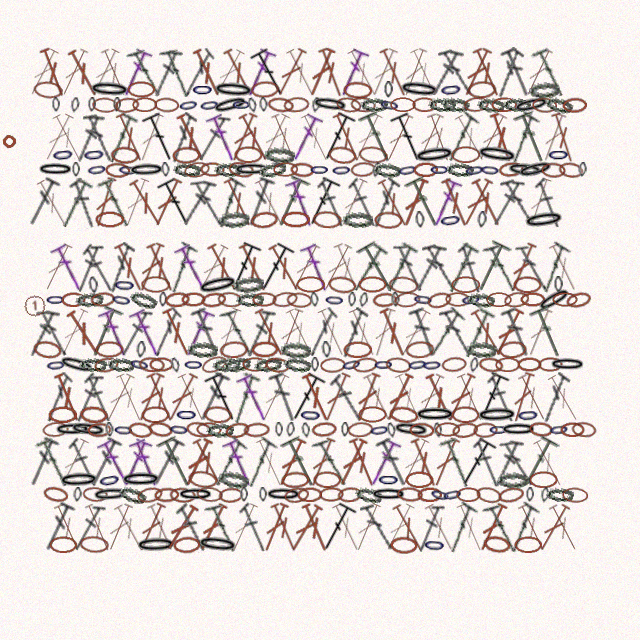chain: (535, 284, 574, 315), (196, 272, 240, 298), (475, 143, 519, 166), (522, 209, 566, 231), (413, 144, 456, 166), (211, 93, 250, 117), (57, 353, 96, 377), (398, 79, 441, 100), (196, 534, 239, 555), (516, 158, 555, 181), (212, 80, 255, 100), (512, 94, 551, 116), (88, 80, 131, 99), (476, 406, 518, 424), (58, 471, 100, 489), (135, 536, 177, 554), (311, 95, 349, 114), (69, 420, 107, 439), (392, 420, 430, 439), (414, 406, 456, 423), (120, 471, 162, 488), (232, 274, 265, 295), (217, 469, 250, 490), (506, 161, 544, 179), (128, 289, 159, 311), (117, 484, 148, 506), (200, 353, 229, 376), (257, 159, 288, 180), (32, 339, 63, 360), (187, 469, 218, 490), (528, 80, 560, 100), (222, 354, 252, 375), (482, 534, 512, 555), (92, 486, 129, 503), (388, 275, 419, 295), (388, 405, 419, 425), (218, 210, 250, 229), (33, 80, 63, 100), (544, 95, 574, 115), (327, 145, 357, 165), (358, 145, 388, 165), (327, 275, 357, 295), (354, 485, 384, 505), (128, 162, 165, 178), (250, 210, 279, 230), (250, 80, 280, 99), (467, 80, 497, 99), (312, 210, 342, 229), (219, 340, 249, 359), (405, 340, 435, 359), (253, 355, 283, 374), (203, 405, 233, 424), (79, 535, 109, 554), (136, 485, 164, 505), (475, 485, 503, 505), (497, 485, 525, 505), (264, 146, 295, 164), (280, 341, 311, 359), (497, 471, 528, 489), (37, 162, 74, 177), (233, 162, 270, 177), (549, 357, 586, 372), (54, 422, 91, 437), (500, 422, 537, 437), (177, 487, 214, 502), (265, 487, 302, 502), (370, 487, 407, 502), (498, 340, 527, 359), (79, 405, 108, 424), (110, 146, 140, 164), (426, 290, 453, 310), (565, 290, 592, 310), (224, 420, 251, 440), (183, 160, 211, 179), (227, 160, 255, 179), (271, 290, 299, 309), (185, 420, 213, 439), (342, 211, 373, 228), (187, 341, 218, 358), (466, 341, 497, 358), (343, 81, 372, 99), (172, 146, 201, 164), (374, 211, 403, 229), (281, 471, 310, 489), (503, 290, 530, 309), (147, 420, 174, 439), (42, 485, 69, 504), (451, 421, 479, 439), (173, 536, 201, 554), (390, 536, 418, 554), (438, 210, 463, 230), (97, 470, 122, 490), (441, 96, 470, 113), (234, 146, 263, 163), (451, 146, 480, 163), (95, 211, 124, 228), (281, 211, 310, 228), (141, 276, 170, 293), (296, 276, 325, 293), (358, 276, 387, 293), (451, 276, 480, 293), (513, 276, 542, 293), (75, 291, 104, 308), (95, 341, 124, 358), (343, 341, 372, 358), (212, 356, 241, 373), (283, 356, 312, 373), (48, 406, 77, 423), (141, 406, 170, 423), (358, 406, 387, 423), (451, 406, 480, 423), (405, 471, 434, 488), (529, 471, 558, 488), (267, 96, 294, 114), (335, 96, 362, 114), (200, 291, 227, 309), (93, 356, 120, 374), (264, 356, 291, 374), (352, 356, 379, 374), (385, 356, 412, 374), (127, 421, 154, 439), (283, 486, 310, 504), (428, 485, 452, 505), (127, 81, 155, 98), (251, 341, 279, 358), (313, 471, 341, 488), (49, 536, 77, 553), (514, 536, 542, 553), (114, 96, 140, 114), (558, 161, 584, 179), (478, 356, 504, 374), (283, 96, 310, 113), (394, 291, 421, 308), (138, 356, 165, 373), (42, 421, 69, 438), (347, 421, 374, 438), (196, 486, 223, 503), (396, 486, 423, 503), (439, 80, 463, 99), (51, 145, 75, 164), (82, 145, 106, 164), (477, 97, 505, 113), (373, 162, 401, 178), (467, 292, 495, 308), (206, 422, 234, 438), (350, 96, 376, 113), (463, 96, 489, 113), (350, 161, 376, 178), (498, 161, 524, 178), (90, 291, 116, 308), (164, 291, 190, 308), (217, 291, 243, 308), (441, 356, 467, 373), (311, 421, 337, 438), (528, 421, 554, 438), (571, 421, 597, 438), (82, 486, 108, 503), (337, 486, 363, 503), (128, 355, 151, 374), (340, 355, 363, 374), (441, 485, 464, 504), (286, 292, 313, 308), (516, 406, 540, 424), (243, 422, 270, 438), (169, 487, 196, 503), (360, 97, 388, 112), (428, 97, 456, 112), (503, 97, 531, 112), (173, 162, 201, 177), (214, 162, 242, 177), (446, 162, 474, 177), (236, 292, 264, 307), (79, 357, 107, 372), (107, 357, 135, 372), (546, 487, 574, 502), (92, 97, 118, 113), (372, 292, 398, 308), (320, 357, 346, 373), (218, 487, 244, 503), (562, 487, 588, 503), (177, 96, 200, 114), (198, 96, 221, 114), (378, 96, 401, 114), (396, 161, 419, 179), (463, 161, 486, 179), (113, 276, 136, 294), (110, 291, 133, 309), (299, 406, 322, 424), (368, 421, 391, 439), (423, 536, 446, 554), (154, 97, 179, 113), (532, 97, 557, 113), (562, 97, 587, 113), (105, 162, 130, 178), (290, 162, 315, 178), (541, 162, 566, 178), (87, 422, 112, 438), (409, 422, 434, 438), (473, 422, 498, 438), (154, 487, 179, 503), (191, 81, 214, 98), (547, 146, 570, 163), (406, 356, 429, 373), (175, 406, 198, 423), (377, 471, 400, 488), (390, 97, 416, 112), (491, 97, 517, 112), (486, 292, 512, 307), (552, 292, 578, 307), (242, 357, 268, 372), (196, 422, 222, 437), (132, 97, 157, 112), (412, 97, 437, 112), (200, 162, 225, 177), (273, 162, 298, 177), (413, 162, 438, 177), (61, 292, 86, 307), (181, 292, 206, 307), (252, 292, 277, 307), (445, 292, 470, 307), (520, 292, 545, 307), (149, 357, 174, 372), (495, 357, 520, 372), (517, 357, 542, 372), (538, 357, 563, 372), (435, 422, 460, 437), (560, 422, 585, 437), (297, 487, 322, 502), (319, 487, 344, 502), (417, 487, 442, 502), (456, 487, 481, 502), (86, 161, 108, 178), (412, 291, 434, 308), (460, 291, 482, 308), (168, 421, 190, 438), (548, 421, 570, 438), (117, 162, 139, 178), (479, 162, 501, 178), (45, 357, 67, 373), (421, 357, 443, 373), (331, 162, 352, 178), (324, 292, 345, 308), (113, 422, 134, 438), (231, 97, 252, 112), (309, 162, 330, 177), (429, 162, 450, 177), (45, 292, 66, 307), (183, 357, 204, 372), (373, 357, 394, 372), (488, 422, 509, 437), (88, 276, 99, 294), (321, 341, 332, 358), (247, 97, 258, 113), (371, 162, 382, 178), (358, 292, 369, 308), (170, 357, 181, 373), (386, 422, 397, 438), (415, 211, 425, 228), (477, 211, 487, 228), (136, 341, 146, 358), (70, 97, 80, 113), (311, 97, 321, 113), (469, 357, 479, 373), (301, 422, 311, 438), (433, 422, 443, 438), (540, 487, 550, 503), (384, 81, 393, 98), (554, 276, 563, 293), (259, 97, 268, 112), (161, 162, 170, 177), (578, 162, 587, 177), (310, 292, 319, 307), (391, 292, 400, 307), (105, 422, 114, 437), (286, 422, 295, 437), (73, 487, 82, 502), (52, 97, 60, 112), (88, 97, 96, 112), (113, 97, 121, 112), (72, 162, 80, 177), (159, 292, 167, 307), (348, 292, 356, 307), (311, 357, 319, 372), (275, 422, 283, 437), (341, 422, 349, 437), (240, 487, 248, 502), (259, 487, 267, 502), (526, 487, 534, 502)
double: (356, 240, 400, 295), (517, 435, 560, 490), (455, 436, 498, 490), (404, 175, 446, 230), (156, 435, 198, 490), (280, 435, 322, 490), (346, 241, 389, 294), (424, 306, 467, 359), (249, 46, 291, 100), (254, 241, 296, 295), (285, 371, 327, 425), (316, 501, 358, 555), (471, 240, 512, 295), (156, 176, 197, 230), (317, 110, 357, 165), (358, 110, 398, 165), (271, 175, 311, 230), (302, 175, 342, 230), (203, 370, 243, 425), (63, 307, 105, 359), (208, 436, 249, 489), (311, 436, 352, 489), (126, 46, 166, 100), (54, 176, 94, 230), (141, 110, 180, 165), (389, 110, 428, 165), (513, 110, 552, 165), (224, 240, 263, 295), (85, 305, 124, 360), (529, 305, 568, 360), (472, 370, 511, 425), (161, 502, 202, 554), (441, 111, 481, 164), (379, 241, 419, 294), (441, 241, 480, 295), (482, 241, 521, 295), (219, 306, 258, 360), (457, 306, 496, 360), (482, 501, 521, 555), (126, 177, 166, 229), (467, 307, 507, 359), (544, 372, 584, 424), (286, 502, 326, 554), (530, 46, 568, 100), (101, 111, 139, 165), (34, 436, 72, 490), (241, 436, 279, 490), (64, 47, 103, 99), (209, 47, 248, 99), (451, 112, 490, 164), (33, 177, 72, 229), (374, 177, 413, 229), (193, 242, 232, 294), (265, 242, 304, 294), (395, 307, 434, 359), (529, 437, 568, 489), (110, 502, 149, 554), (389, 502, 428, 554), (534, 502, 573, 554), (24, 46, 62, 99), (220, 46, 258, 99), (272, 46, 310, 99), (282, 46, 320, 99), (344, 46, 382, 99), (39, 111, 77, 164), (49, 111, 87, 164), (235, 111, 273, 164), (473, 111, 511, 164), (251, 176, 289, 229), (458, 176, 496, 229), (468, 176, 506, 229), (49, 241, 87, 294), (173, 241, 211, 294), (204, 241, 242, 294), (318, 241, 356, 294), (251, 306, 289, 359), (489, 306, 527, 359), (163, 371, 201, 424), (514, 371, 552, 424), (96, 436, 134, 489), (148, 436, 186, 489), (189, 436, 227, 489), (380, 501, 418, 554), (421, 501, 459, 554), (545, 501, 583, 554), (96, 176, 133, 230), (204, 501, 241, 555), (504, 501, 541, 555), (86, 46, 123, 99), (189, 46, 226, 99), (406, 46, 443, 99), (458, 46, 495, 99), (520, 46, 557, 99), (173, 111, 210, 164), (256, 111, 293, 164), (287, 111, 324, 164), (297, 111, 334, 164), (349, 111, 386, 164), (24, 176, 61, 229), (220, 176, 257, 229), (39, 241, 76, 294), (111, 241, 148, 294), (235, 241, 272, 294), (287, 241, 324, 294), (545, 241, 582, 294), (55, 306, 92, 359), (282, 306, 319, 359), (101, 371, 138, 424), (235, 371, 272, 424), (256, 371, 293, 424), (359, 371, 396, 424), (442, 371, 479, 424), (55, 436, 92, 489), (86, 436, 123, 489), (334, 436, 371, 489), (365, 436, 402, 489), (375, 436, 412, 489), (396, 436, 433, 489), (194, 501, 231, 554), (328, 501, 365, 554), (514, 501, 551, 554), (505, 111, 541, 165), (211, 176, 247, 230), (536, 241, 572, 295), (443, 501, 479, 555), (179, 177, 217, 228), (56, 46, 92, 99), (376, 46, 412, 99), (469, 46, 505, 99), (112, 111, 148, 164), (329, 111, 365, 164), (381, 111, 417, 164), (412, 111, 448, 164), (149, 176, 185, 229), (335, 176, 371, 229), (143, 241, 179, 294), (128, 306, 164, 359), (159, 306, 195, 359), (180, 306, 216, 359), (314, 306, 350, 359), (345, 306, 381, 359), (112, 371, 148, 424), (174, 371, 210, 424), (195, 371, 231, 424), (298, 371, 334, 424), (381, 371, 417, 424), (391, 371, 427, 424), (412, 371, 448, 424), (422, 371, 458, 424), (453, 371, 489, 424), (180, 436, 216, 489), (221, 436, 257, 489), (252, 436, 288, 489), (273, 436, 309, 489), (40, 501, 76, 554), (50, 501, 86, 554), (133, 501, 169, 554), (143, 501, 179, 554), (226, 501, 262, 554), (474, 501, 510, 554), (328, 373, 366, 423), (159, 46, 194, 100), (164, 241, 199, 295), (226, 371, 261, 425), (438, 436, 473, 490), (97, 46, 132, 99), (118, 46, 153, 99), (242, 46, 277, 99), (304, 46, 339, 99), (335, 46, 370, 99), (366, 46, 401, 99), (500, 46, 535, 99), (205, 111, 240, 164), (226, 111, 261, 164), (267, 111, 302, 164), (428, 176, 463, 229), (438, 176, 473, 229), (505, 241, 540, 294), (97, 306, 132, 359), (190, 306, 225, 359), (376, 306, 411, 359), (500, 306, 535, 359), (50, 371, 85, 424), (133, 371, 168, 424), (143, 371, 178, 424), (319, 371, 354, 424), (25, 436, 60, 489), (118, 436, 153, 489), (128, 436, 163, 489), (345, 436, 380, 489), (407, 436, 442, 489), (428, 436, 463, 489), (81, 501, 116, 554), (102, 501, 137, 554), (267, 501, 302, 554), (298, 501, 333, 554), (350, 501, 385, 554), (453, 501, 488, 554), (80, 243, 117, 293), (499, 438, 536, 488), (428, 47, 464, 98), (438, 47, 474, 98), (500, 177, 536, 228), (174, 502, 210, 553), (36, 46, 70, 99), (119, 176, 153, 229), (284, 176, 318, 229), (398, 176, 432, 229), (134, 241, 168, 294), (299, 241, 333, 294), (330, 241, 364, 294), (522, 306, 556, 359), (305, 436, 339, 489), (258, 501, 292, 554), (180, 48, 216, 98), (195, 113, 231, 163), (190, 177, 225, 228), (490, 177, 525, 228), (412, 242, 447, 293), (422, 242, 457, 293), (515, 242, 550, 293), (118, 307, 153, 358), (66, 437, 101, 488), (71, 502, 106, 553), (360, 502, 395, 553), (491, 47, 525, 99), (367, 177, 401, 229), (26, 307, 60, 359), (439, 307, 473, 359), (537, 372, 571, 424), (315, 46, 348, 99), (398, 46, 431, 99), (134, 111, 167, 164), (423, 111, 456, 164), (537, 111, 570, 164), (243, 176, 276, 229), (274, 306, 307, 359), (408, 306, 441, 359), (268, 371, 301, 424), (351, 371, 384, 424), (346, 177, 380, 228), (36, 307, 70, 358), (305, 307, 339, 358), (150, 47, 183, 99), (165, 112, 198, 164), (103, 242, 136, 294), (243, 307, 276, 359), (336, 307, 369, 359), (491, 437, 524, 489), (523, 176, 555, 229), (213, 306, 245, 359), (315, 177, 348, 228), (150, 307, 183, 358), (82, 372, 115, 423), (485, 372, 518, 423), (237, 502, 270, 553), (73, 112, 105, 164), (486, 111, 517, 164), (548, 111, 579, 164), (368, 306, 399, 359), (507, 371, 538, 424), (393, 242, 425, 293), (42, 372, 74, 423), (471, 437, 503, 488), (83, 112, 114, 164), (68, 177, 99, 229), (533, 177, 564, 229), (73, 372, 104, 424), (90, 176, 120, 229), (74, 242, 104, 294), (415, 502, 445, 554), (456, 242, 485, 294)
noise: (22, 293, 47, 318), (2, 134, 17, 149)
